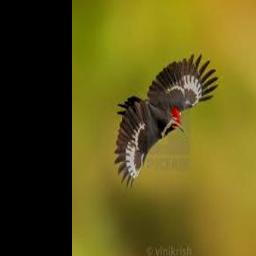Woodpecker: (114, 54, 219, 188)
